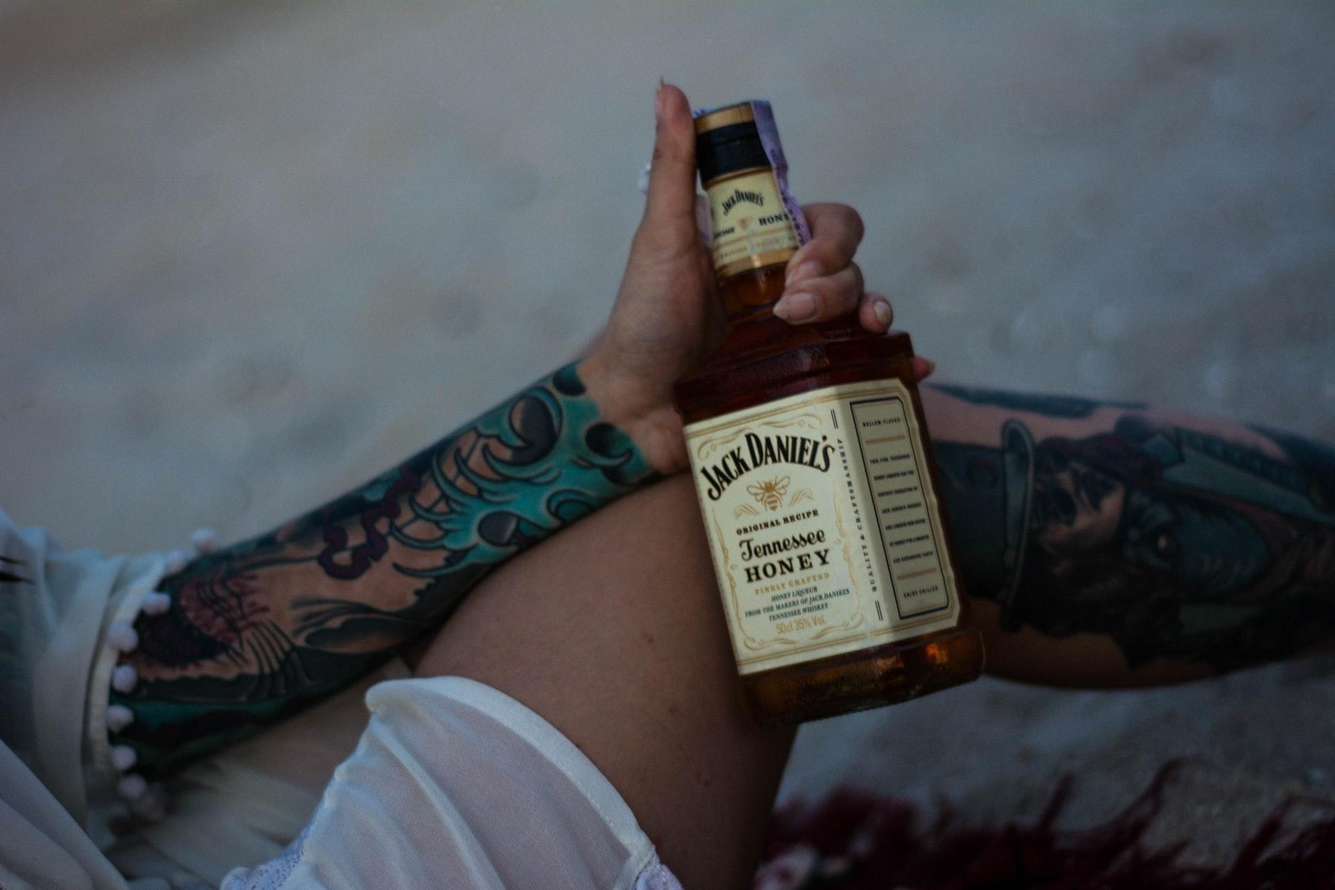bottle-glass: (670, 96, 983, 729)
